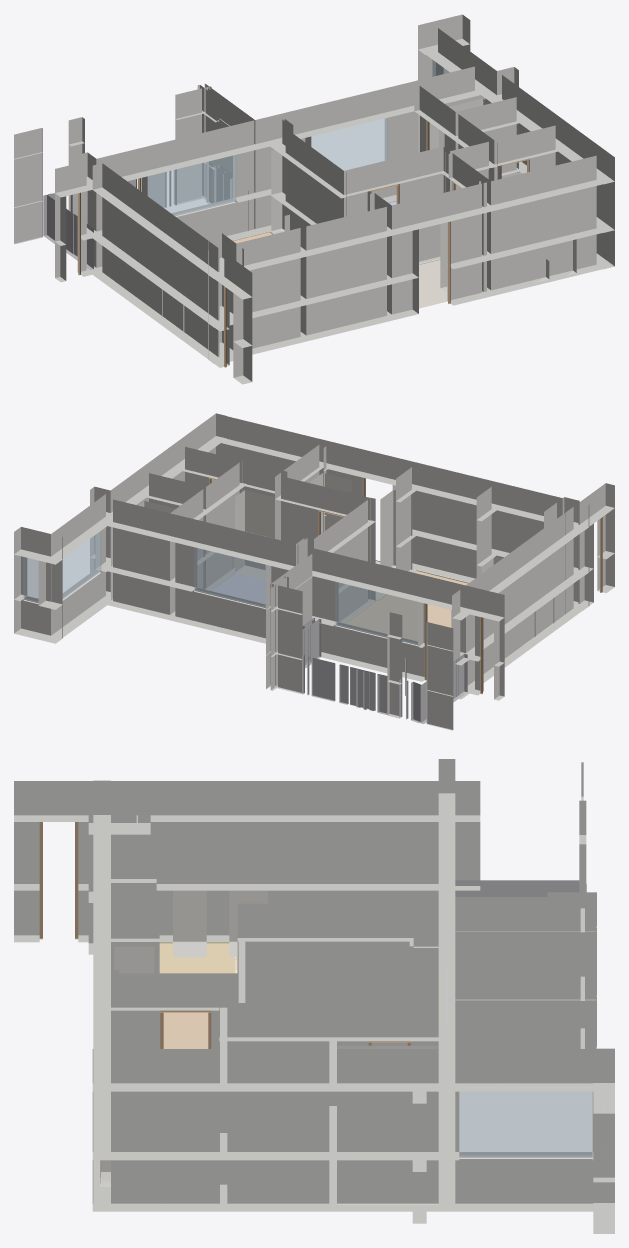
3 renders of one model, top to bottom at view 1: azimuth 30°, elevation 25°; view 2: azimuth 150°, elevation 25°; view 3: azimuth 270°, elevation 25°, orthographic. The views are drawn at different scales.
Visible parts, largest first — view 1: walls, window_3, railings, window_0, floor_2_Entry, furniture_0_closet, furniture_1_closet, furniture_4_closet; view 2: walls, railings, window_3, window_0, floor_0_Living_Room, furniture_2_closet, window_8, furniture_3_closet, floor_3_Bed_Room, furniture_4_closet, window_11, furniture_1_closet; view 3: walls, window_8, furniture_8_appliance, railings, floor_1_Kitchen, floor_0_Living_Room, furniture_3_closet, furniture_5_appliance, door_10.
Boxes of the visible parts, x1,y1,x2,y2 form: walls: (14,14,614,384); window_3: (146,155,236,215); railings: (43,161,248,269); window_0: (311,118,387,170); floor_2_Entry: (419,259,447,308); furniture_0_closet: (271,149,284,232); furniture_1_closet: (418,98,518,172); furniture_4_closet: (440,222,447,292); walls: (14,413,614,730); railings: (302,618,467,723); window_3: (335,582,417,644); window_0: (194,545,268,606); floor_0_Living_Room: (345,570,468,641); furniture_2_closet: (235,490,274,579); window_8: (56,526,101,602); furniture_3_closet: (380,490,412,569); floor_3_Bed_Room: (211,573,265,603); furniture_4_closet: (310,473,351,533); window_11: (23,557,38,602); furniture_1_closet: (111,501,204,600); walls: (14,759,614,1233); window_8: (459,1087,592,1156); furniture_8_appliance: (173,890,206,957); railings: (455,880,586,896); floor_1_Kitchen: (159,942,235,973); floor_0_Living_Room: (163,957,237,1048); furniture_3_closet: (114,946,154,973); furniture_5_appliance: (229,890,267,957); door_10: (39,822,78,939).
Size of the model in its own units: 12.01 by 2.72 by 9.53.
